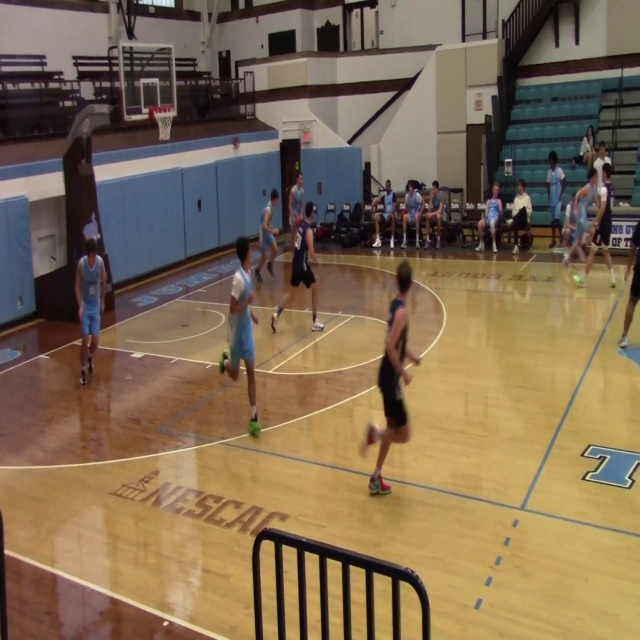Basketball: (219, 351, 229, 374), (572, 274, 581, 283)
